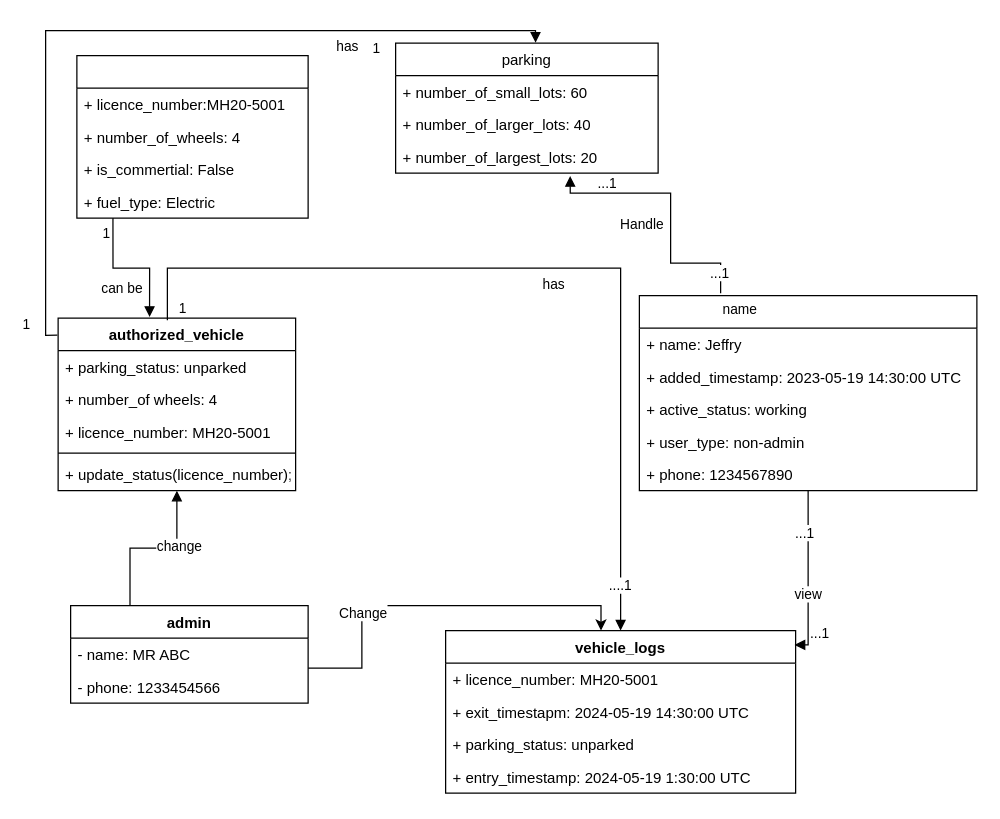
This 1000x819 diagram has some shape labels left out. Each missing label, with the box of its shape:
security: (638, 294, 977, 491)
vehicle: (76, 54, 308, 218)
